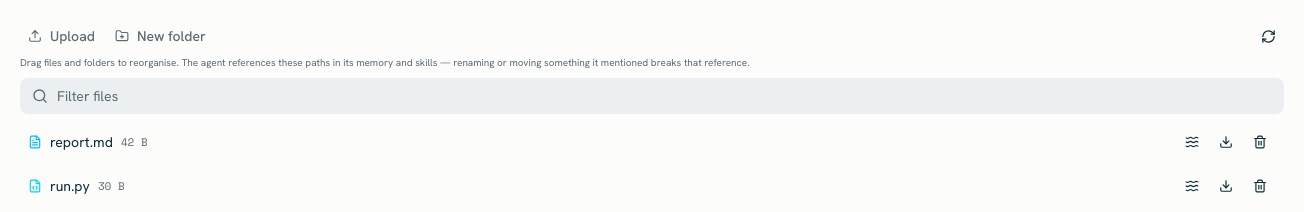
Test: opening a document from the files tree › previews a script as code, which used to be download-only
Click the button "run.py": (70, 186) [50,176,90,196]
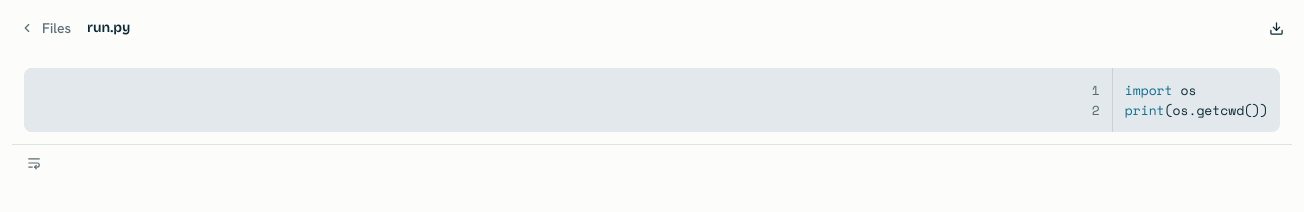
Expected: the text "print(os.getcwd())" is shown, [1113,100,1280,132]
